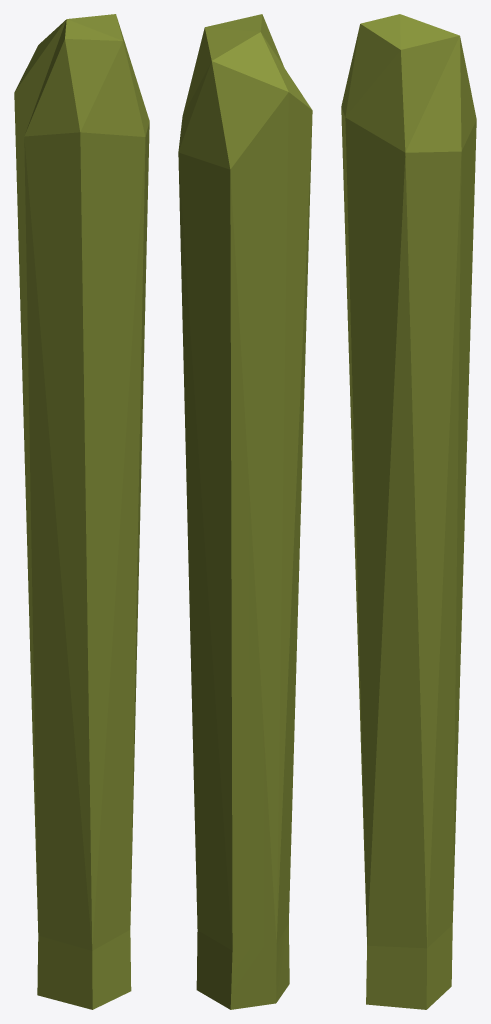
Rendered from ea_swamp_grass_01a_pre__14__lev1.glb.
3 views of the same model, side by side, from view 1: azimuth 30°, elevation 25°; view 2: azimuth 210°, elevation 25°; view 3: azimuth 330°, elevation 25° (orthographic).
Parts seen in each view (by area): view 1: ea_swamp_grass_01a_pre__14__lev1; view 2: ea_swamp_grass_01a_pre__14__lev1; view 3: ea_swamp_grass_01a_pre__14__lev1.
Boxes of the visible parts, x1,y1,x2,y2 form: ea_swamp_grass_01a_pre__14__lev1: (14,14,149,1009); ea_swamp_grass_01a_pre__14__lev1: (178,14,312,1009); ea_swamp_grass_01a_pre__14__lev1: (341,14,476,1009).
Bounding box in the file's own units: 0.2623 × 1.98 × 0.2278.
1 material, 1 textured.
